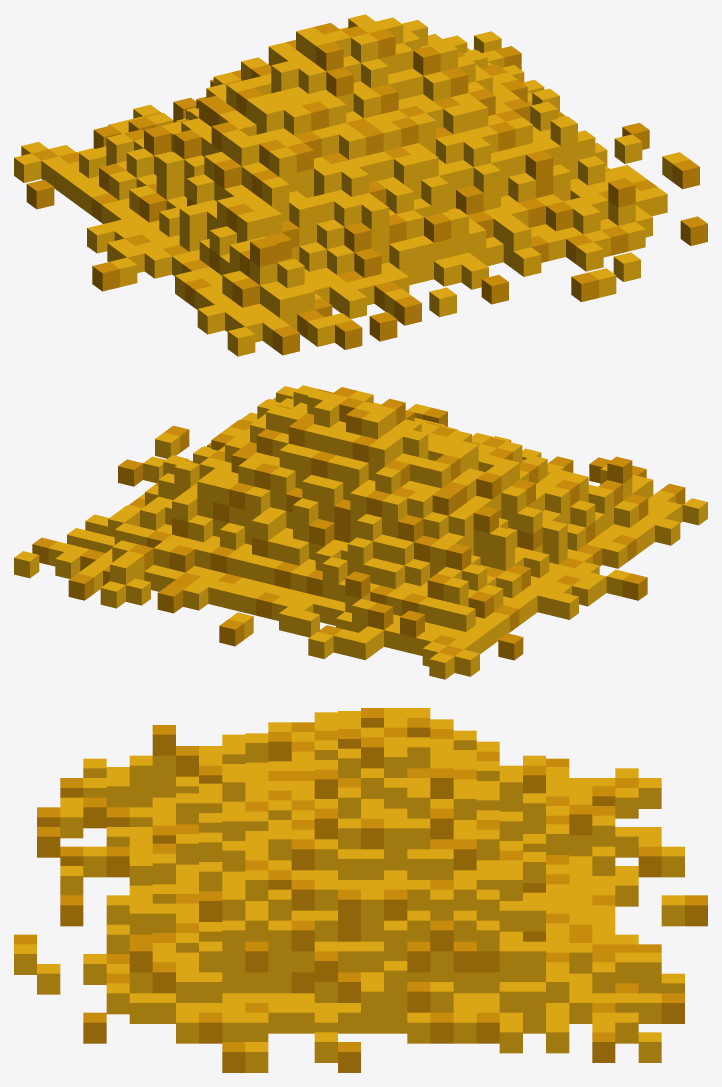
Rendered from Feno 02.obj.
3 renders of one model, top to bottom at view 1: azimuth 30°, elevation 25°; view 2: azimuth 150°, elevation 25°; view 3: azimuth 270°, elevation 25°, orthographic. The views are drawn at different scales.
Size of the model in its own units: 3.2 by 0.9 by 3.
1 material, 1 textured.
